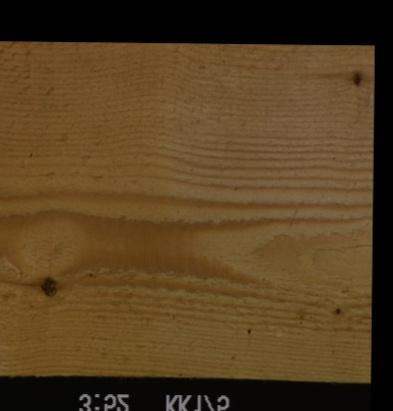dry_knot: (38, 275, 58, 298)
small_knot: (348, 71, 362, 88), (331, 305, 340, 317)
